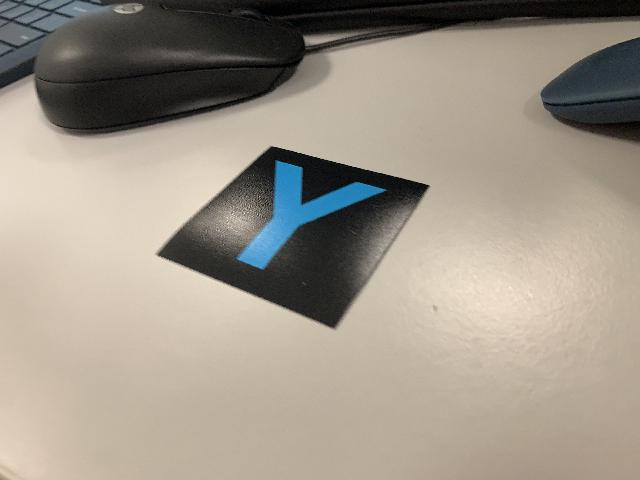y: (153, 142, 433, 335)
